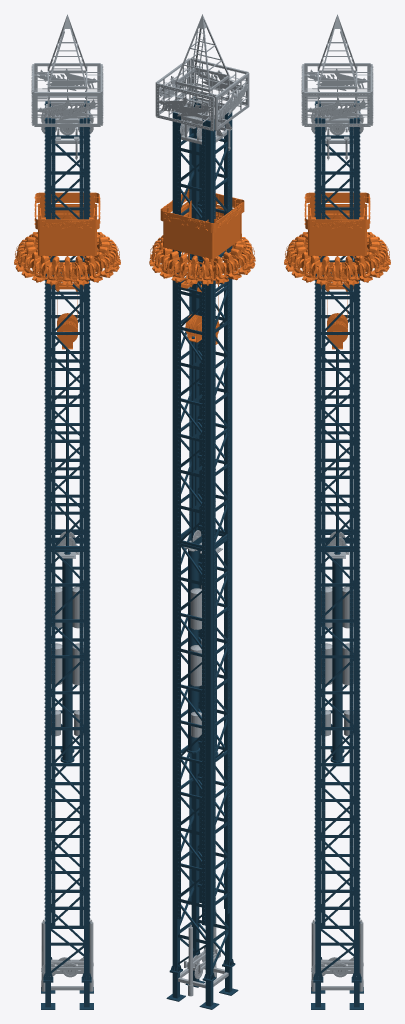
Rendered from drop-tower.glb.
3 views of the same model, side by side, from view 1: azimuth 90°, elevation 25°; view 2: azimuth 150°, elevation 25°; view 3: azimuth 270°, elevation 25° (orthographic).
Parts seen in each view (by area): view 1: ASSEMBLY_STATIC, ASSEMBLY_PASSENGER_CARRIAGE; view 2: ASSEMBLY_STATIC, ASSEMBLY_PASSENGER_CARRIAGE; view 3: ASSEMBLY_STATIC, ASSEMBLY_PASSENGER_CARRIAGE.
Part boxes in pixels (x1,y1,x2,y2): ASSEMBLY_STATIC: (31, 14, 103, 1009); ASSEMBLY_PASSENGER_CARRIAGE: (14, 192, 120, 286); ASSEMBLY_STATIC: (155, 14, 249, 1009); ASSEMBLY_PASSENGER_CARRIAGE: (149, 189, 255, 285); ASSEMBLY_STATIC: (301, 14, 373, 1009); ASSEMBLY_PASSENGER_CARRIAGE: (284, 192, 390, 286).
Bounding box in the file's own units: 4.86 × 49.35 × 4.86.
